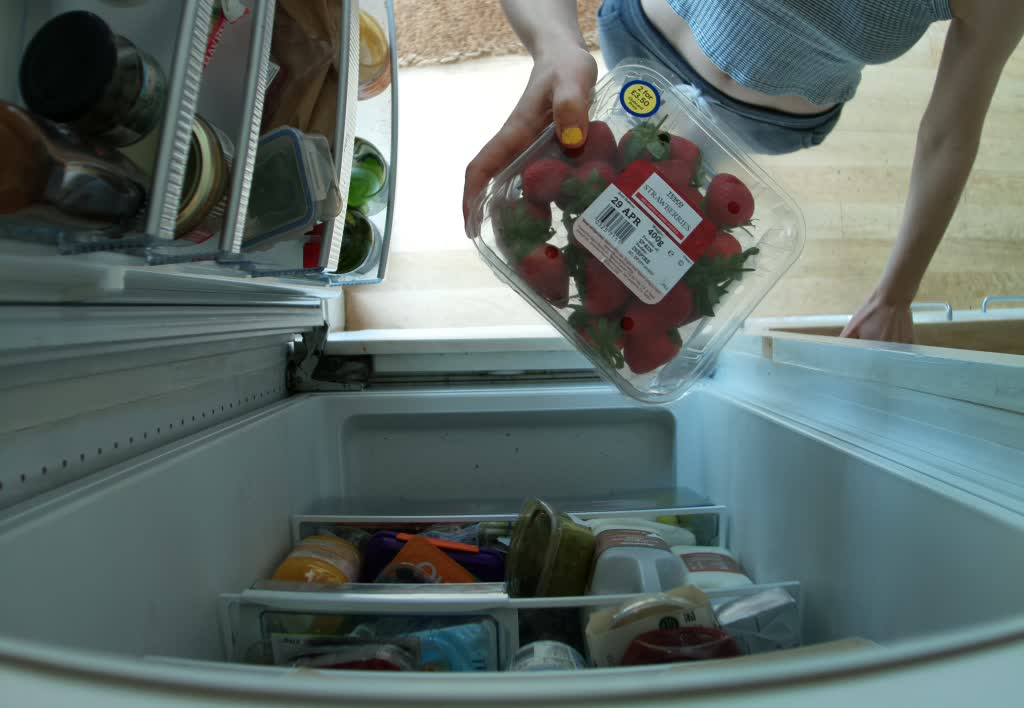soft-fruit: (470, 64, 805, 401)
